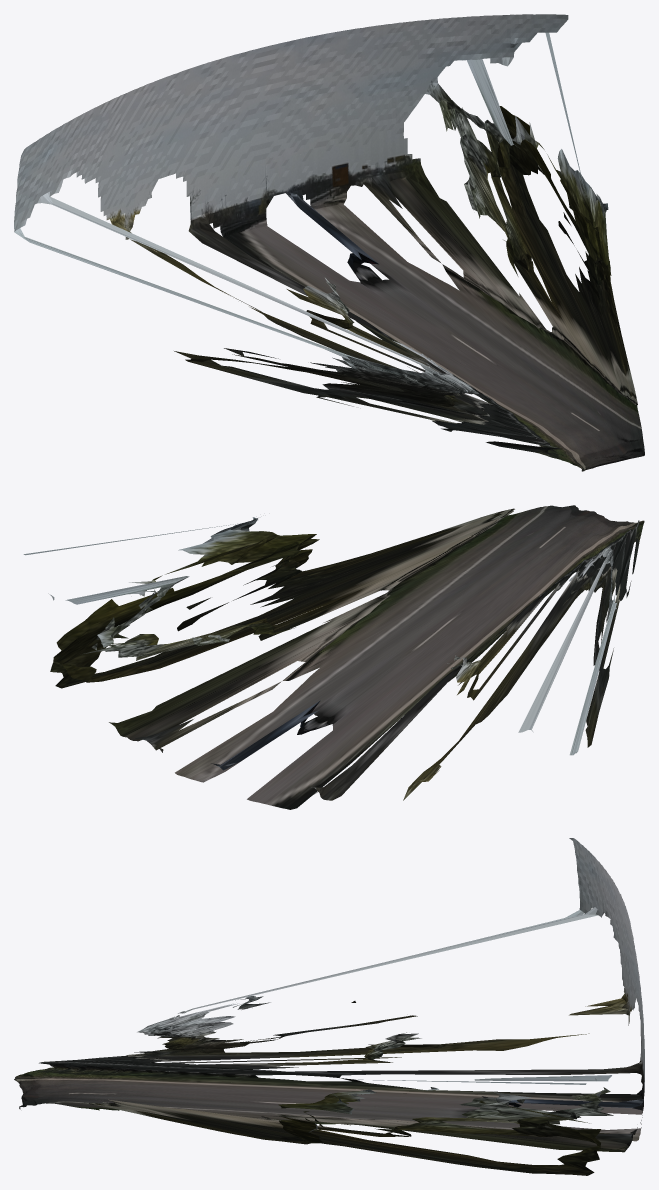
The picture shows the model from 3 angles, top to bottom: view 1: azimuth 30°, elevation 25°; view 2: azimuth 150°, elevation 25°; view 3: azimuth 270°, elevation 25°; orthographic projection. The views are drawn at different scales.
Visible parts, largest first — view 1: defaultobject; view 2: defaultobject; view 3: defaultobject.
Part boxes in pixels (x1,y1,x2,y2): defaultobject: [14, 14, 644, 471]; defaultobject: [23, 505, 644, 809]; defaultobject: [14, 838, 644, 1175].
Bounding box in the file's own units: 40.17 × 12.86 × 44.66.
Materials: 1 (1 with a texture image).
